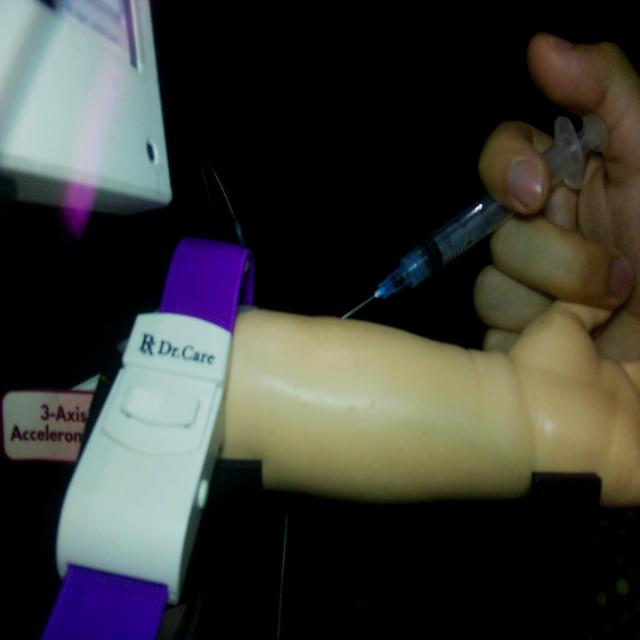29 degrees: (340, 110, 608, 322)
